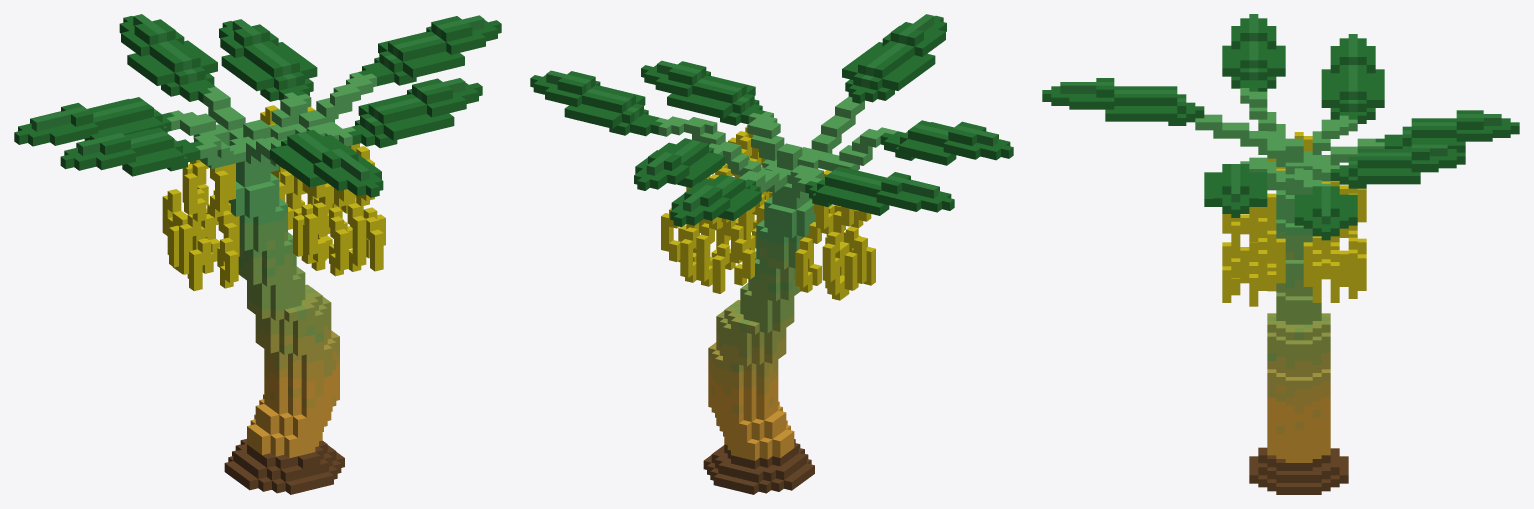
The model's file is Arbórea Exótica - Bananeira.obj.
3 views of the same model, side by side, from view 1: azimuth 30°, elevation 25°; view 2: azimuth 150°, elevation 25°; view 3: azimuth 270°, elevation 25° (orthographic). The views are drawn at different scales.
Bounding box in the file's own units: 5.5 × 4.5 × 5.3.
Materials: 1 (1 with a texture image).
